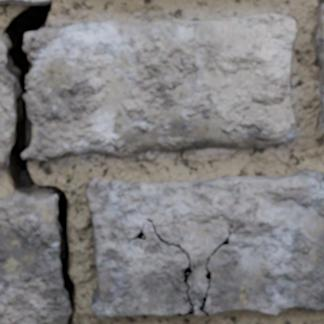brick: (86, 169, 323, 318), (0, 194, 69, 323), (316, 4, 323, 130), (0, 0, 50, 4)
broken_brick: (24, 13, 297, 161), (0, 53, 13, 168), (0, 39, 2, 49)
crack: (0, 1, 77, 323), (127, 217, 195, 315), (199, 223, 233, 316)
